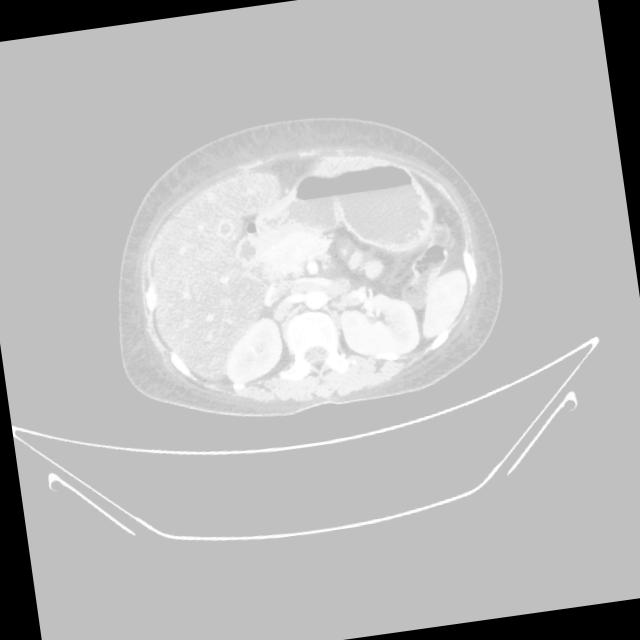NORMAL: (96, 101, 498, 438)
